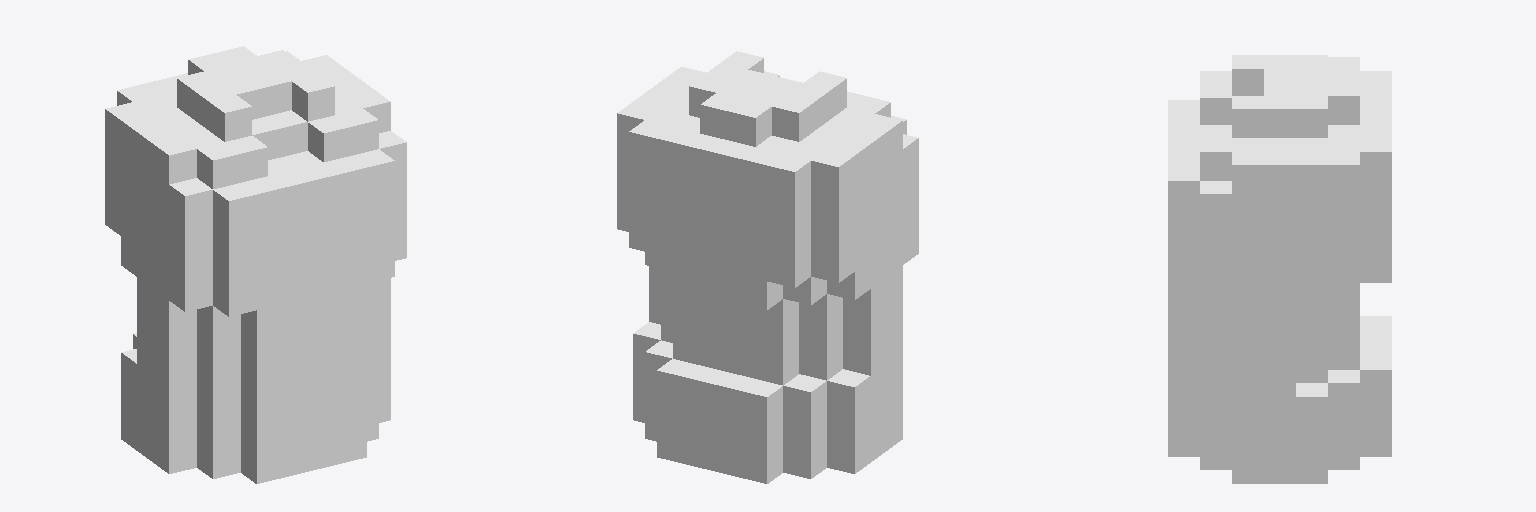
Rendered from char-71-chest_lgt_1_ja_du_color.obj.
3 views of the same model, side by side, from view 1: azimuth 30°, elevation 25°; view 2: azimuth 150°, elevation 25°; view 3: azimuth 270°, elevation 25° (orthographic).
Parts seen in each view (by area): view 1: chest_lgt_1_ja_du_color; view 2: chest_lgt_1_ja_du_color; view 3: chest_lgt_1_ja_du_color.
Boxes of the visible parts, x1=… form: chest_lgt_1_ja_du_color: x1=105, y1=46, x2=406, y2=483; chest_lgt_1_ja_du_color: x1=617, y1=51, x2=918, y2=483; chest_lgt_1_ja_du_color: x1=1168, y1=55, x2=1391, y2=483.
Bounding box in the file's own units: 0.8 × 1.2 × 0.7.